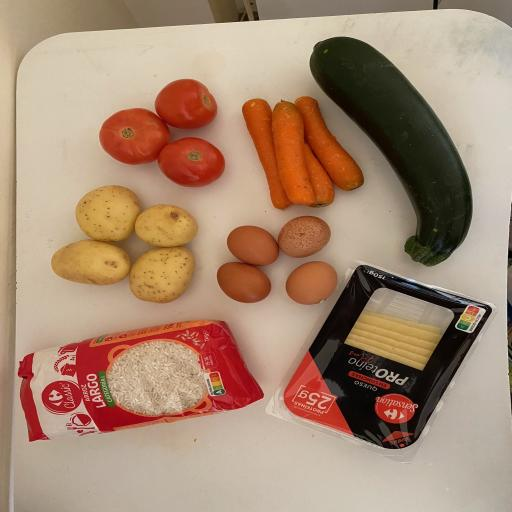carrot: (270, 88, 375, 196), (279, 84, 348, 212), (234, 89, 304, 215), (269, 93, 331, 211)
cheese: (270, 250, 500, 472)
courgette: (275, 22, 483, 275)
egg: (217, 217, 288, 284), (273, 253, 348, 314), (208, 254, 282, 314), (267, 209, 347, 264)
potato: (38, 224, 142, 299), (64, 176, 155, 255), (122, 230, 200, 314), (114, 198, 208, 258)
rice: (19, 307, 267, 476)
tomato: (137, 132, 241, 201), (92, 100, 182, 177), (144, 69, 228, 145)
